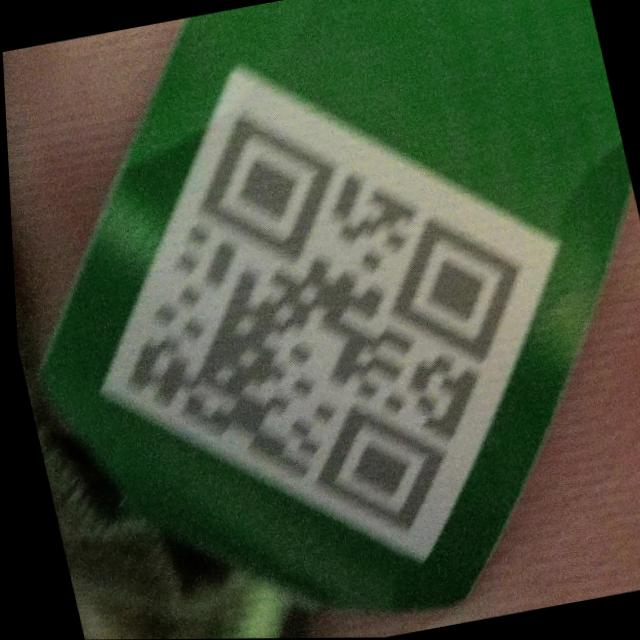QR_CODE: (42, 45, 577, 585)
